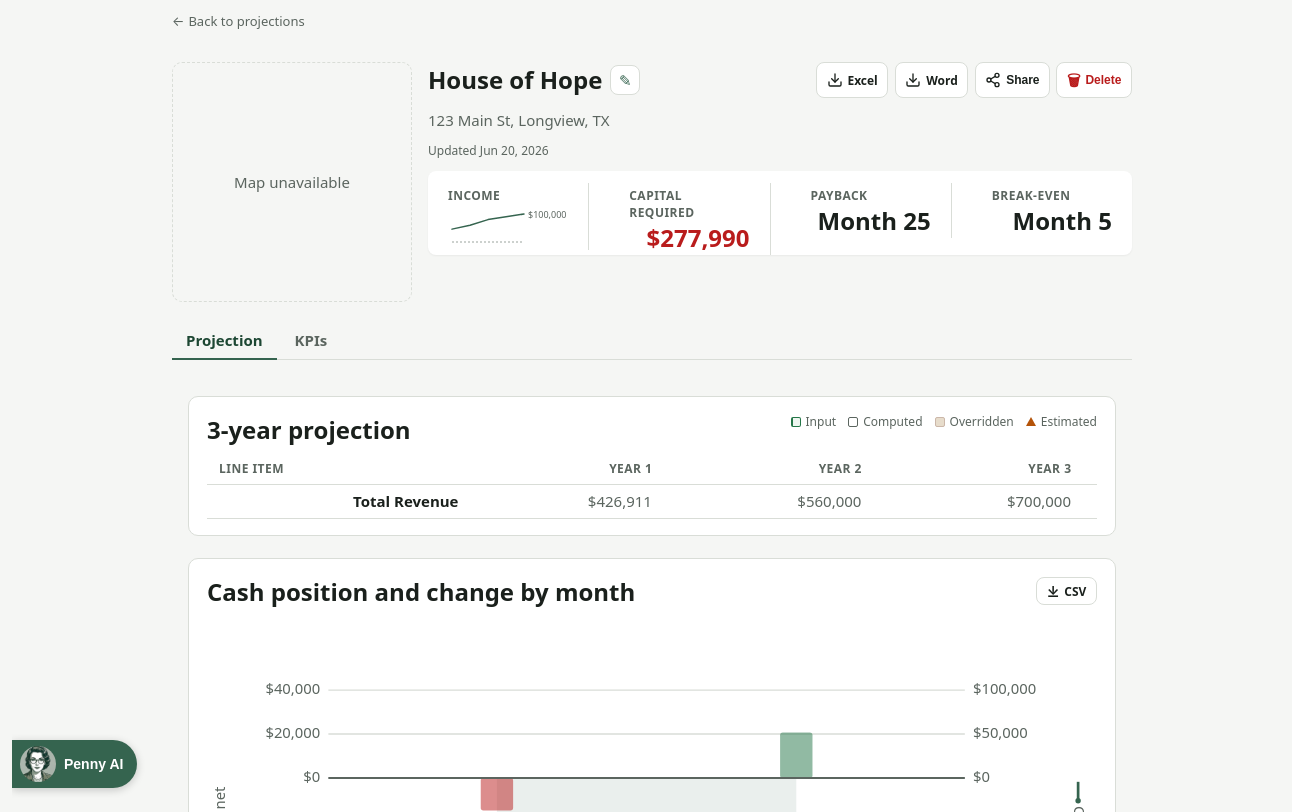
ProjectionDetail — Epic G reorg › edit mode shows a Projection | KPIs tablist and merges KPIs + Settings into the KPIs tab (D11)
Check: the element with test id "decision-banner" is shown, box [428,171,1132,255]
Check: the tab "Projection" is shown, box [172,322,277,360]
Click the tab "KPIs" at [311, 341], box [281,322,341,360]
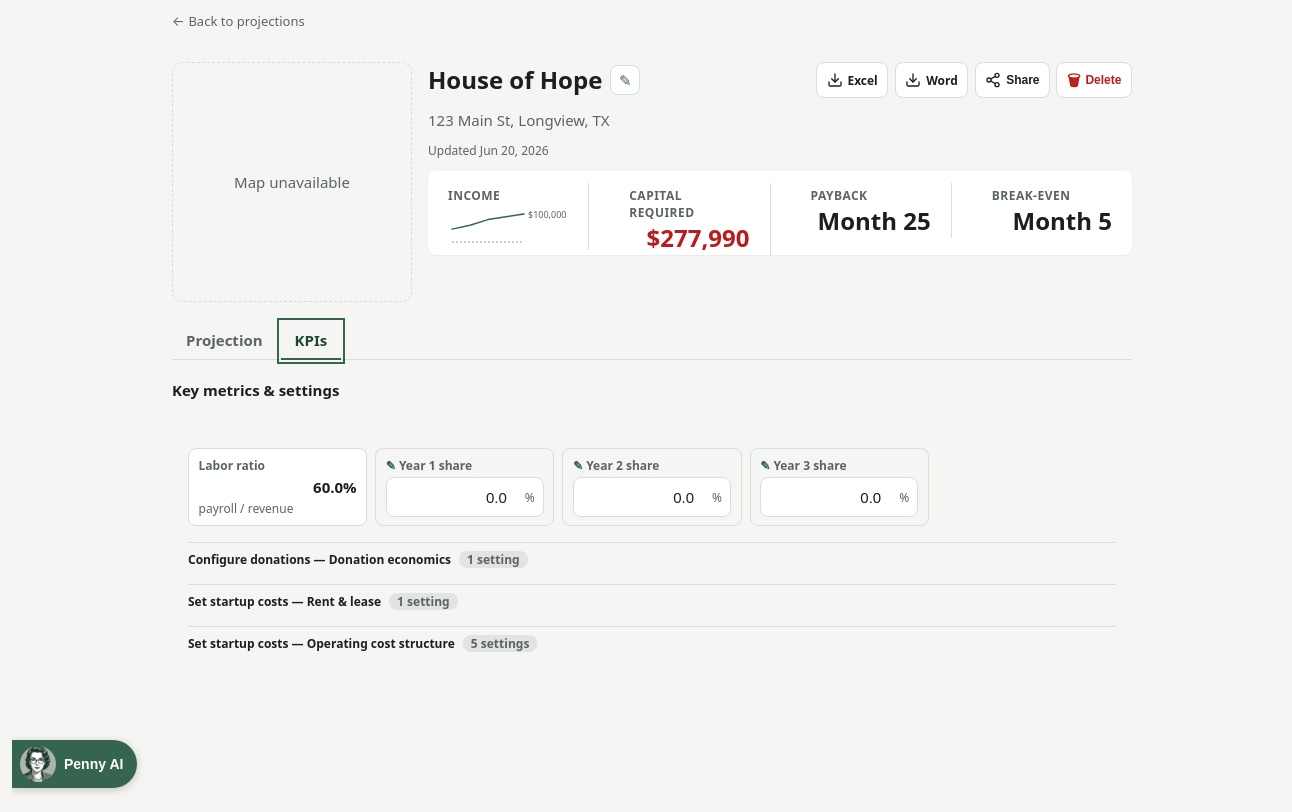
Check: the element with test id "settings-tab" that starts with "Labor ratio" is shown, box [172,424,1132,668]
Check: the element with test id "kpi-Labor ratio" is shown, box [188,448,367,526]
